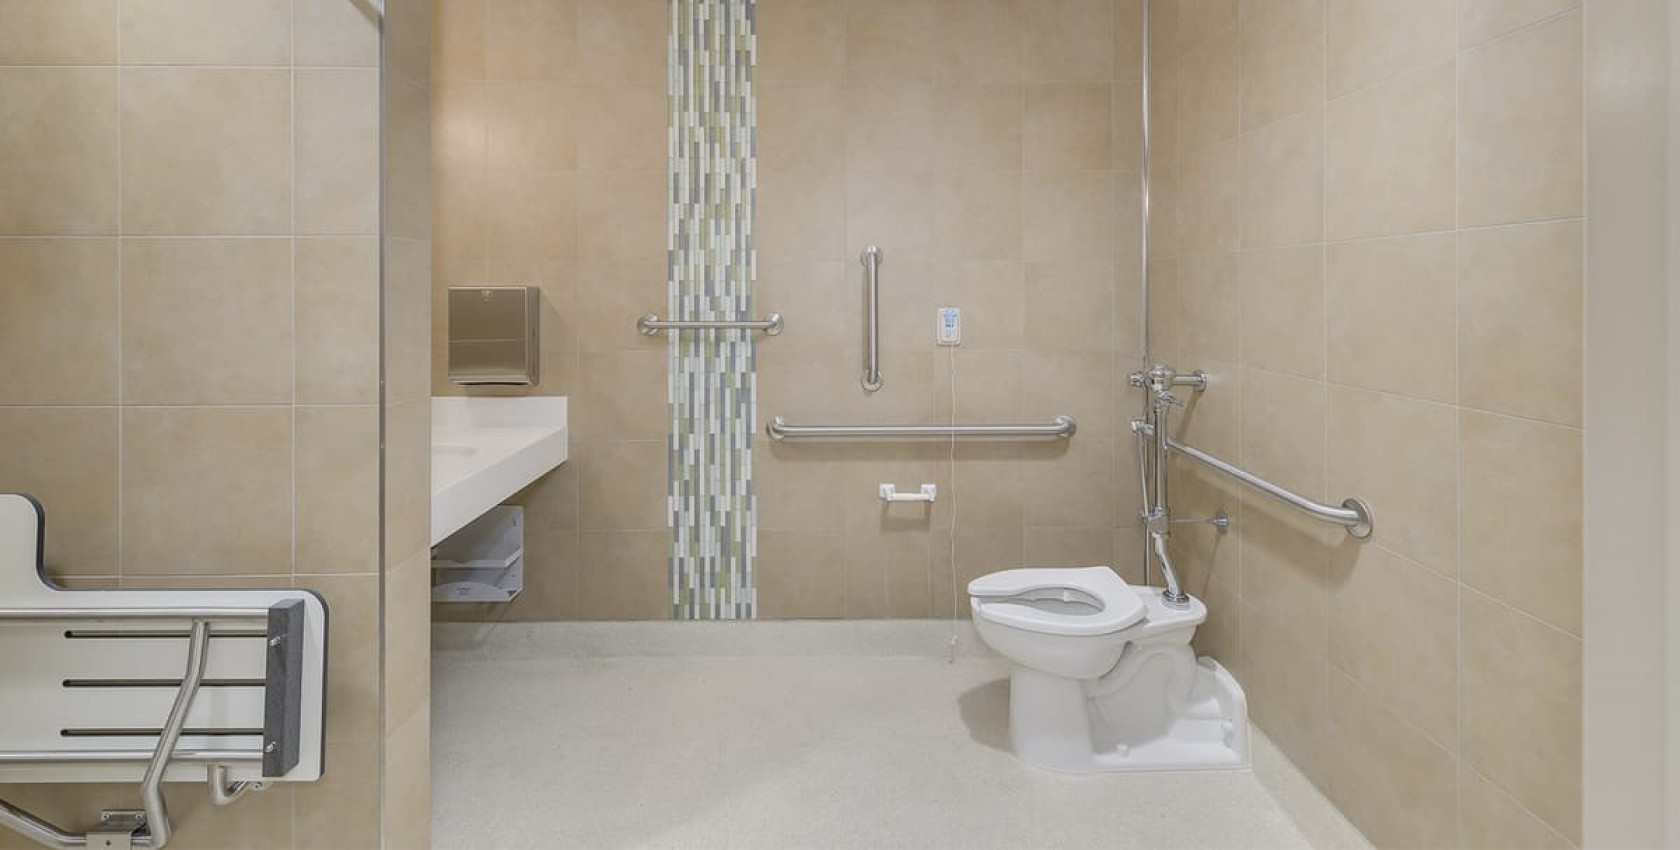countertop: (430, 417, 565, 532)
dispenser: (444, 280, 547, 392)
restroom_assist_bar: (1126, 423, 1387, 531), (765, 417, 1078, 446), (856, 249, 893, 405), (639, 315, 781, 336)
sink: (432, 433, 478, 480)
toilet: (940, 564, 1249, 791)
toilet_handle: (1162, 394, 1187, 411)
